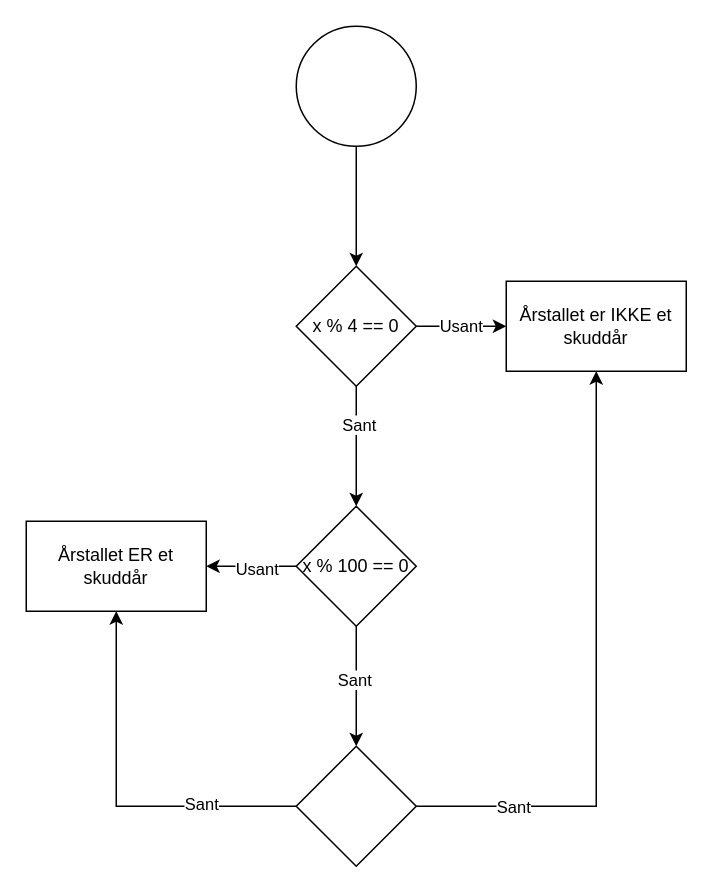
This 713x893 diagram has some shape labels left out. The shapes that lost their labels are listed below. From the top down, each one's centre as x and y in pixels, then its label:
(355,85): Setter inn årstall i x
(355,805): x % 400 == 0
